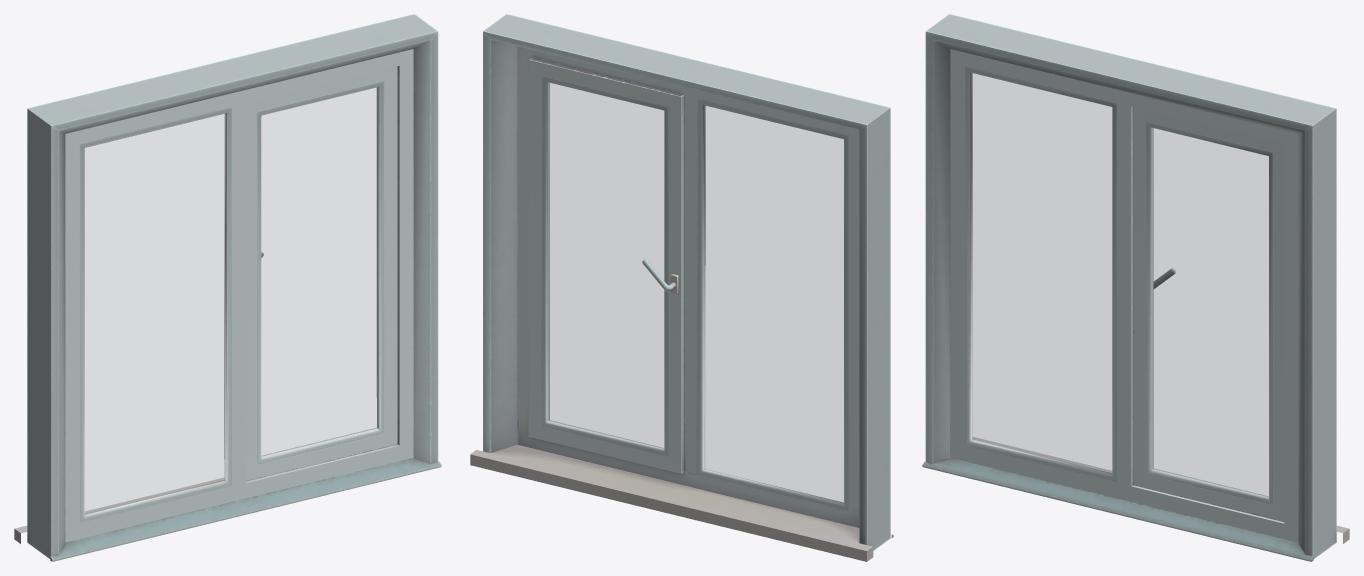
File: classic_plastic_window.gltf
3 views of the same model, side by side, from view 1: azimuth 30°, elevation 25°; view 2: azimuth 150°, elevation 25°; view 3: azimuth 330°, elevation 25° (orthographic).
Parts seen in each view (by area): view 1: Glass 1, Slopes, Glass 2, Frame 1, Frame 3, Frame 4, Frame 5, Drain, Frame 2, Windowsill; view 2: Glass 1, Slopes, Glass 2, Frame 1, Frame 3, Windowsill, Frame 4, Frame 5, Frame 2; view 3: Glass 1, Slopes, Glass 2, Frame 1, Frame 3, Frame 4, Frame 5, Drain, Frame 2, Windowsill.
Part boxes in pixels (bbox=[...]): Glass 1: bbox=[85, 114, 224, 514]; Slopes: bbox=[27, 14, 438, 558]; Glass 2: bbox=[261, 88, 377, 456]; Frame 1: bbox=[65, 49, 413, 542]; Frame 3: bbox=[246, 66, 397, 481]; Frame 4: bbox=[79, 106, 232, 523]; Frame 5: bbox=[256, 80, 385, 465]; Drain: bbox=[50, 457, 441, 561]; Frame 2: bbox=[232, 103, 246, 486]; Windowsill: bbox=[14, 477, 224, 543]; Glass 1: bbox=[704, 106, 843, 503]; Slopes: bbox=[483, 14, 890, 550]; Glass 2: bbox=[549, 83, 663, 448]; Frame 1: bbox=[517, 46, 859, 527]; Frame 3: bbox=[528, 58, 683, 473]; Windowsill: bbox=[470, 444, 873, 561]; Frame 4: bbox=[697, 98, 849, 511]; Frame 5: bbox=[541, 75, 669, 457]; Frame 2: bbox=[684, 95, 696, 474]; Glass 1: bbox=[972, 73, 1111, 473]; Slopes: bbox=[925, 14, 1336, 558]; Glass 2: bbox=[1153, 128, 1268, 496]; Frame 1: bbox=[950, 49, 1298, 542]; Frame 3: bbox=[1133, 107, 1284, 521]; Frame 4: bbox=[964, 65, 1117, 482]; Frame 5: bbox=[1145, 121, 1273, 506]; Drain: bbox=[922, 457, 1313, 561]; Frame 2: bbox=[1117, 103, 1132, 486]; Windowsill: bbox=[972, 437, 1349, 543].
Bounding box in the file's own units: 1.45 × 1.5 × 0.2035.
Materials: 2 (1 with a texture image).
